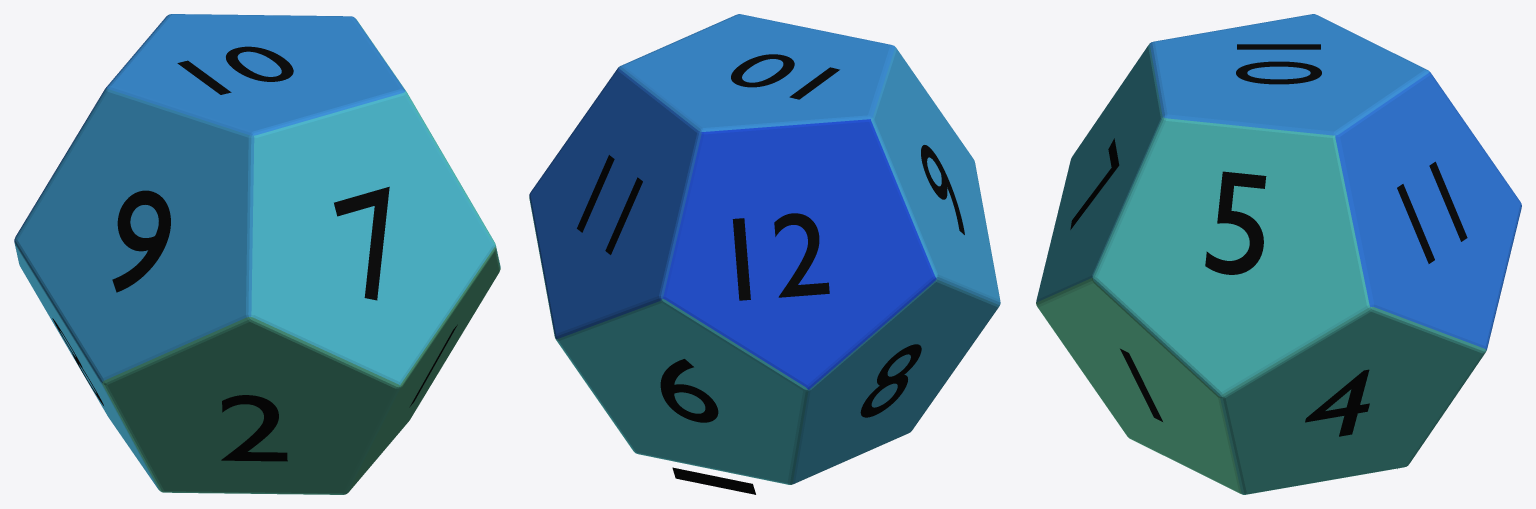
3 renders of one model, left to right at view 1: azimuth 30°, elevation 25°; view 2: azimuth 150°, elevation 25°; view 3: azimuth 270°, elevation 25°, orthographic. The views are drawn at different scales.
Parts seen in each view (by area): view 1: d12, d12_num; view 2: d12, d12_num; view 3: d12, d12_num.
Boxes of the visible parts, x1,y1,x2,y2 form: d12: (14,14,500,494); d12_num: (52,46,457,461); d12: (529,14,1000,484); d12_num: (577,54,964,494); d12: (1036,14,1521,494); d12_num: (1070,44,1467,436).
Bounding box in the file's own units: 2.59 × 2.27 × 2.62.
